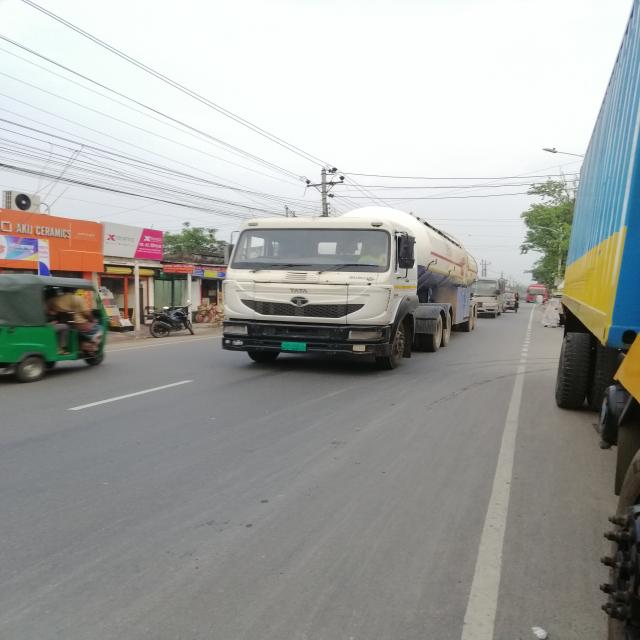CNG: (1, 260, 141, 397)
Motorbike: (123, 303, 225, 342)
Truck: (195, 196, 493, 389)
